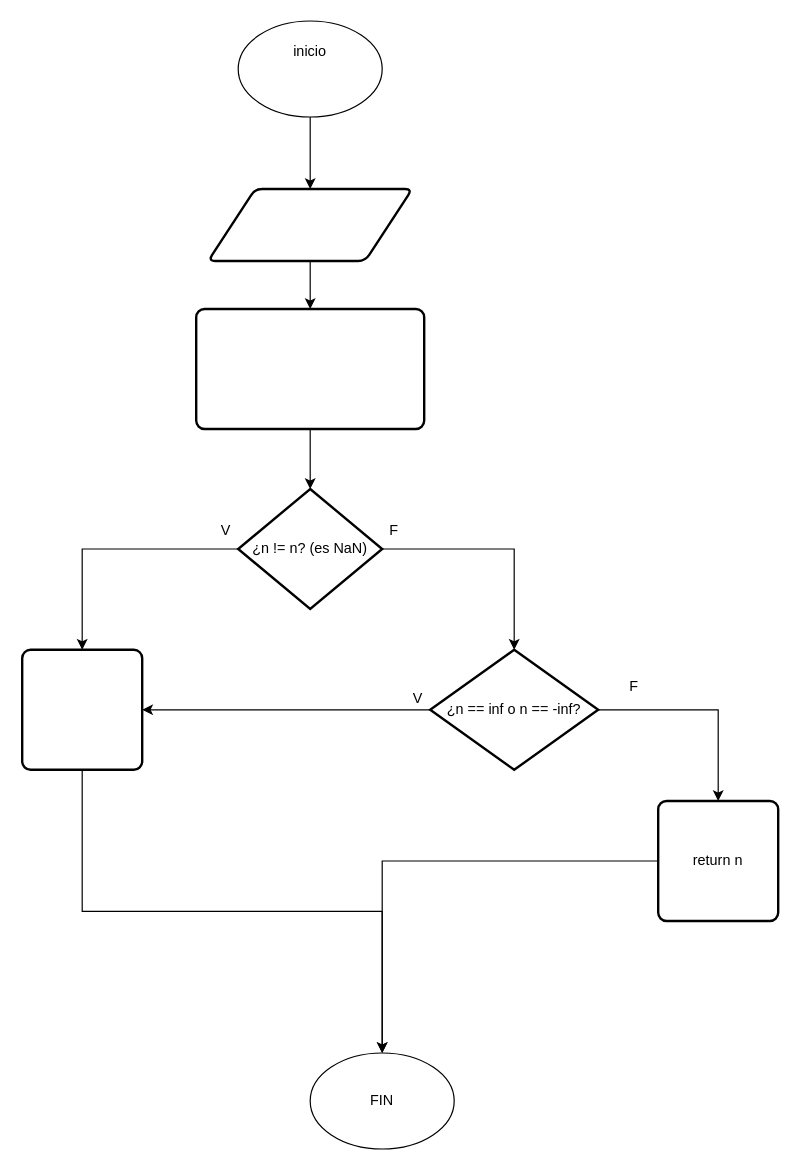
The diagram is 799 pixels wide and 1170 high, and some of its shapes have lost their labels. Each missing label, with the centre of its shape:
a_numero(texto): point 309,224
n = float(texto.replace(",", ".")): point 309,368
return None: point 81,709
